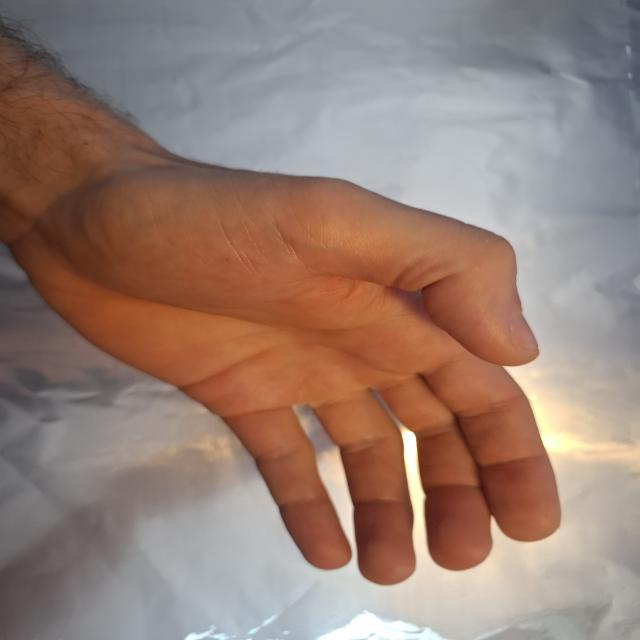glove_off: (5, 152, 566, 586)
